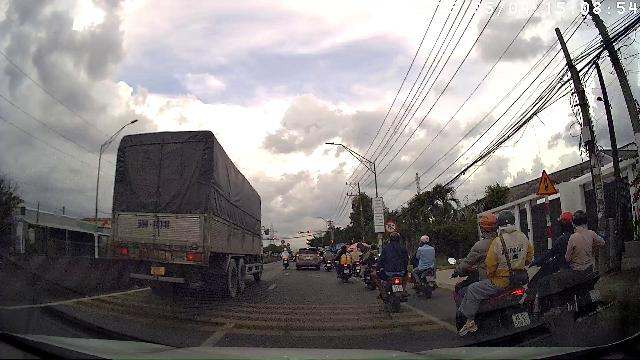124b-cam-oto-quay-dau-xe: (385, 221, 397, 233)
